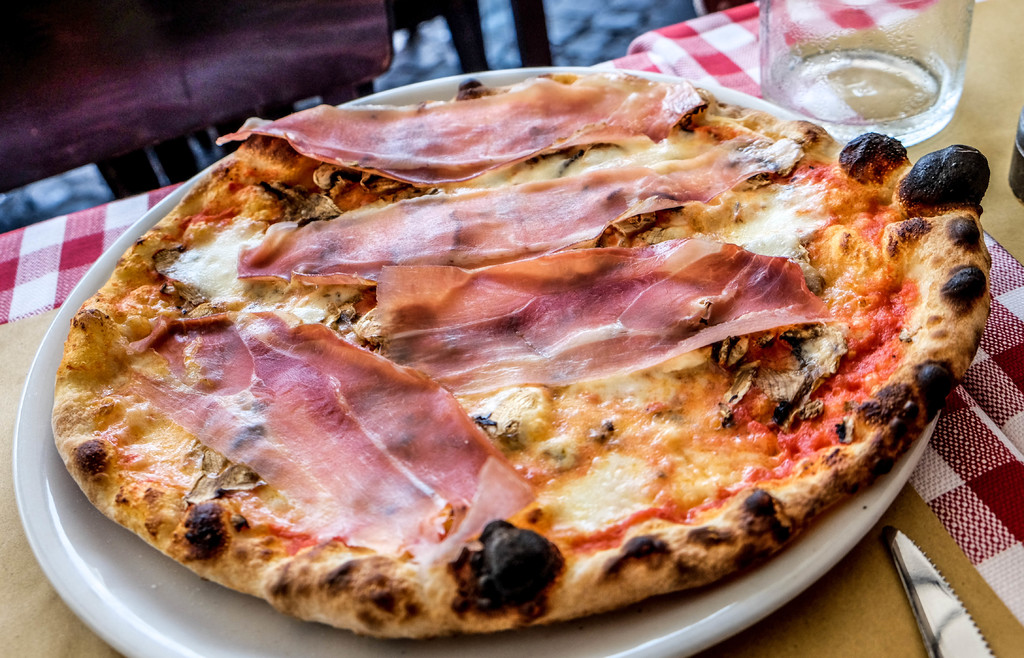Pizza: (46, 70, 993, 636)
